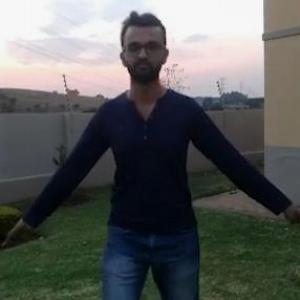land: (29, 36, 277, 299)
